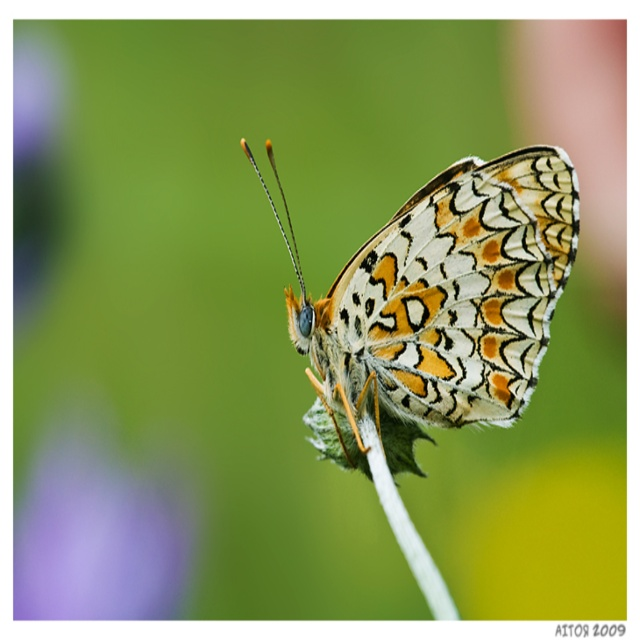Butterfly: (236, 134, 579, 468)
